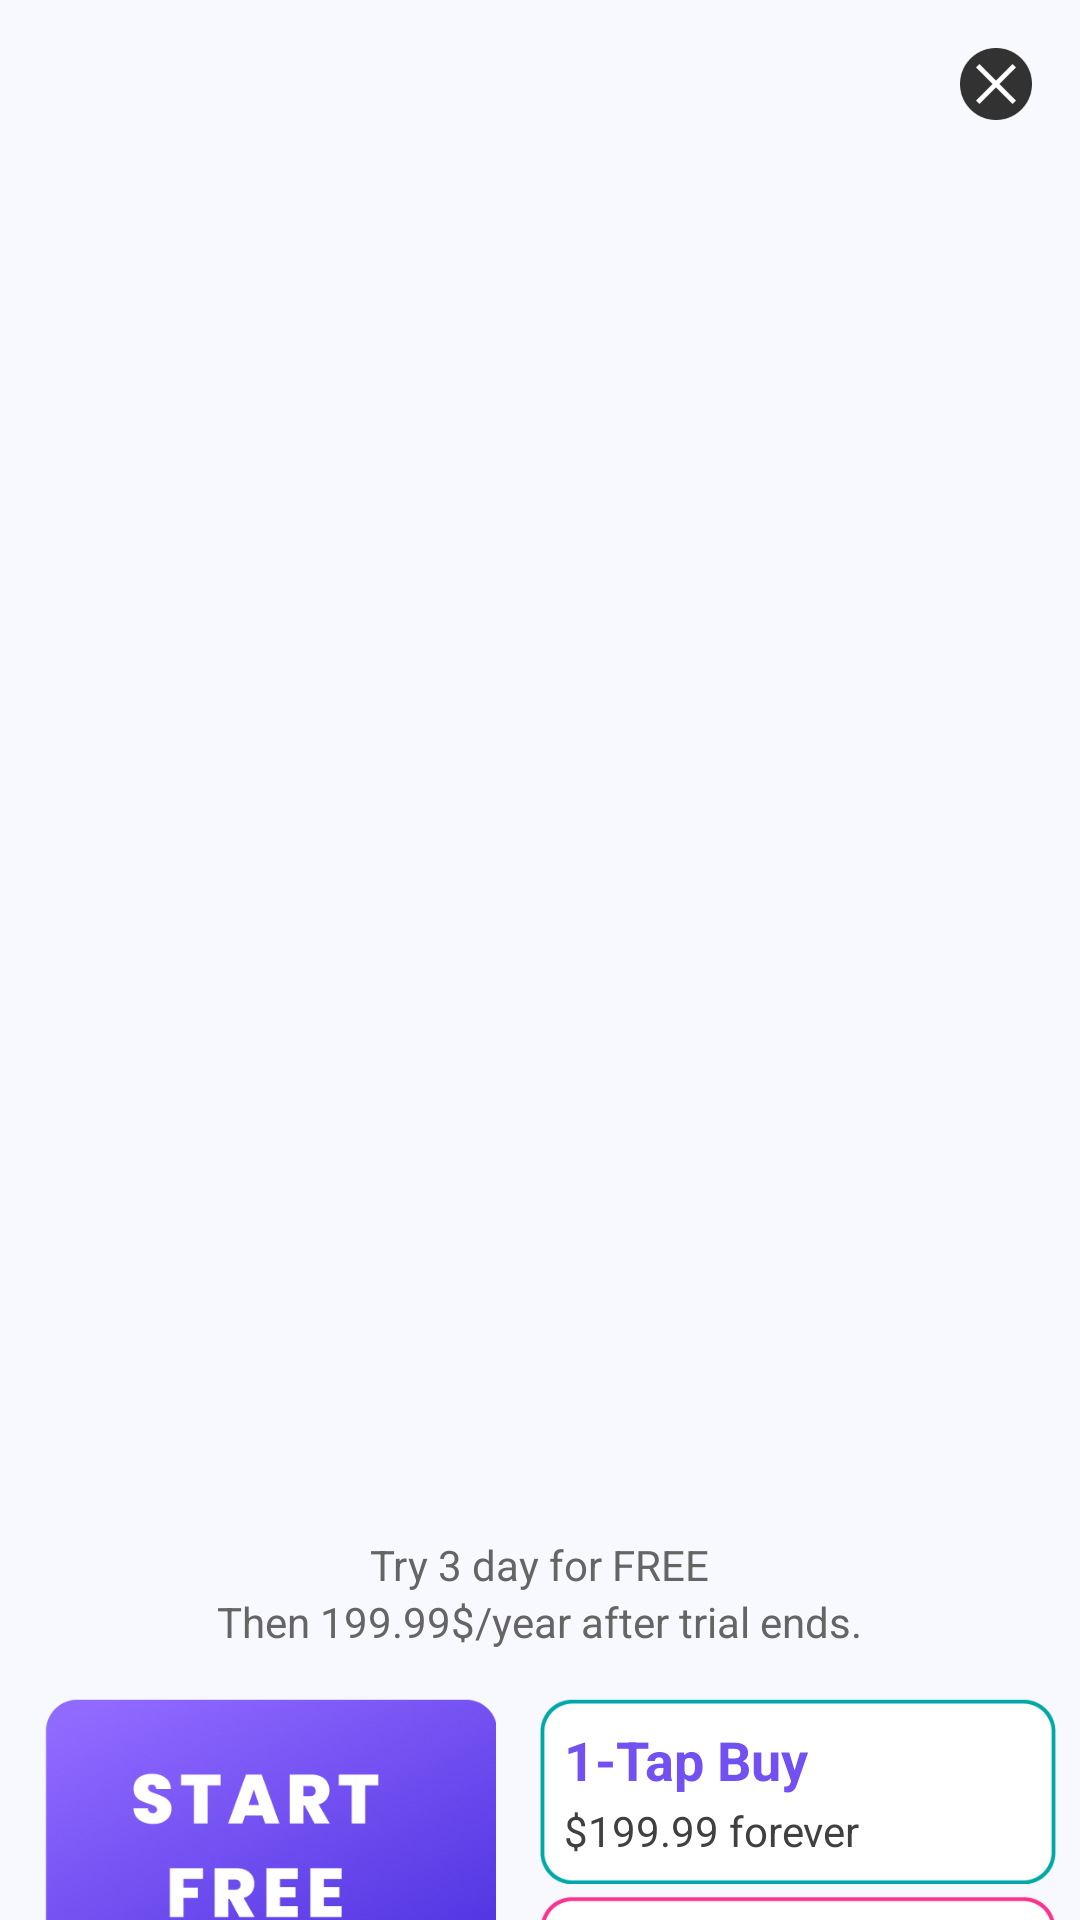

Named icons in this screenshot (1080w x 1920h) and their bounding boxes, bbox(x1, y1, x2, y2):
roku close: bbox(960, 48, 1032, 120)
